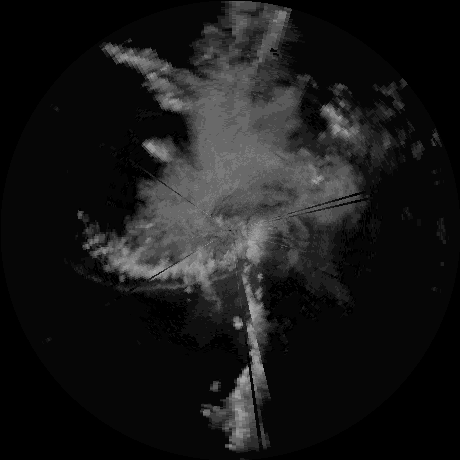frontgust: (113, 279, 191, 293), (206, 269, 246, 281)
